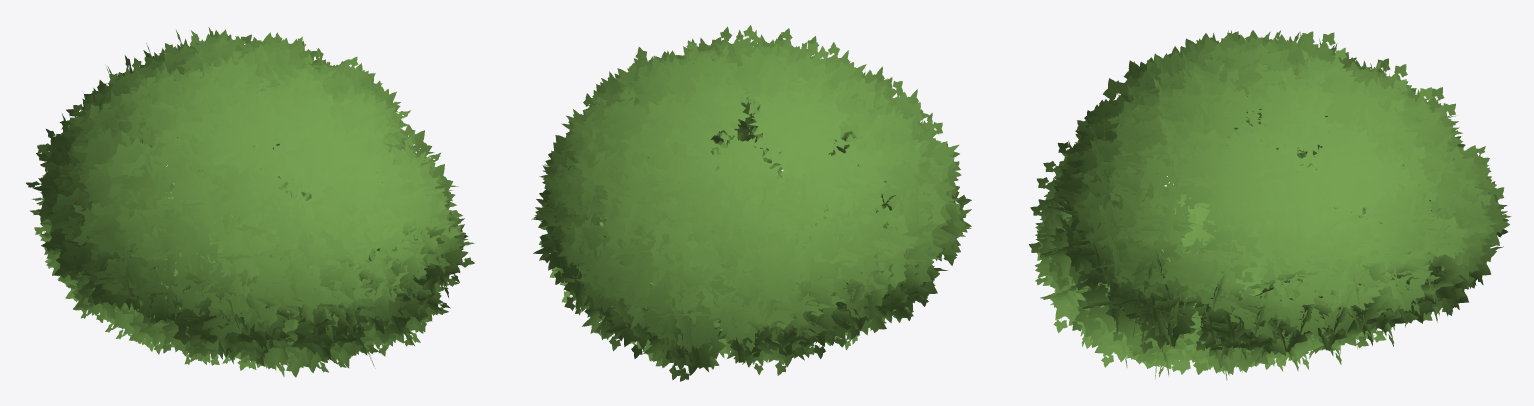
File: Bush_a.fbx
3 renders of one model, left to right at view 1: azimuth 30°, elevation 25°; view 2: azimuth 150°, elevation 25°; view 3: azimuth 270°, elevation 25°, orthographic. The views are drawn at different scales.
Visible parts, largest first — view 1: Bush_a_LOD0; view 2: Bush_a_LOD0; view 3: Bush_a_LOD0.
Boxes of the visible parts, left/top/right/bottom form: Bush_a_LOD0: left=26, top=27, right=474, bottom=377; Bush_a_LOD0: left=531, top=25, right=971, bottom=381; Bush_a_LOD0: left=1029, top=30, right=1511, bottom=380.
Size of what is drawn, in the model's own units: 2.76 by 2.96 by 1.93.
